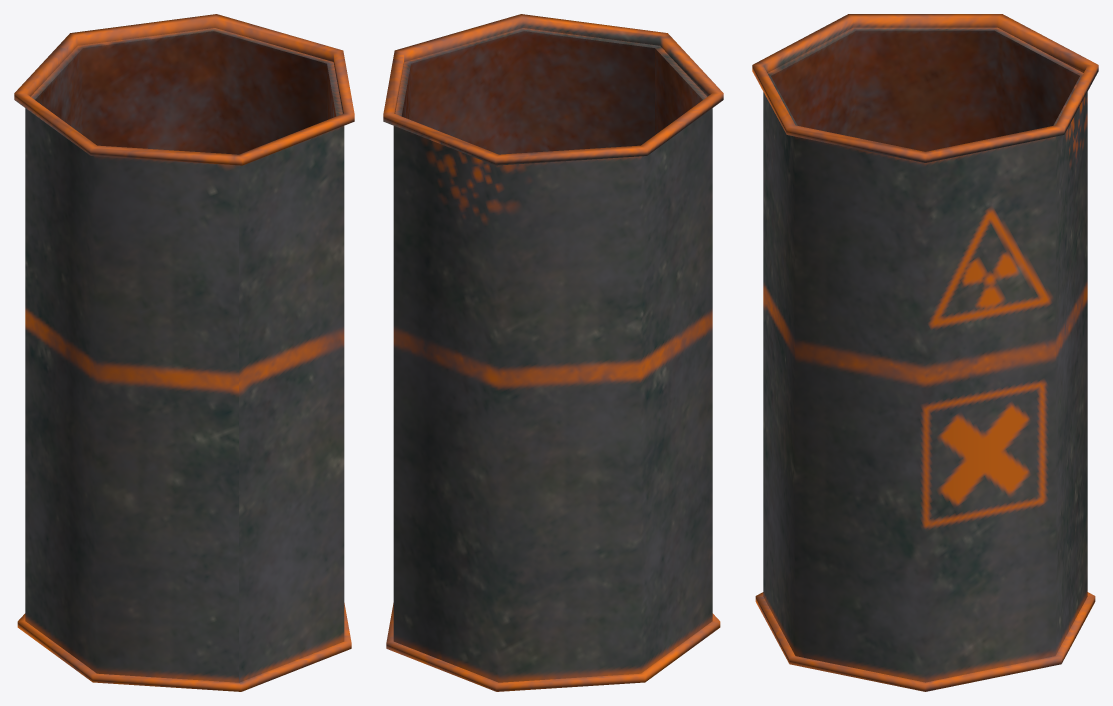
Rendered from barrel.glb.
3 views of the same model, side by side, from view 1: azimuth 30°, elevation 25°; view 2: azimuth 150°, elevation 25°; view 3: azimuth 270°, elevation 25° (orthographic).
Visible parts, largest first — view 1: SM_Barrel; view 2: SM_Barrel; view 3: SM_Barrel.
Part boxes in pixels (x1=…): SM_Barrel: x1=14, y1=14, x2=354, y2=691; SM_Barrel: x1=383, y1=14, x2=723, y2=691; SM_Barrel: x1=752, y1=14, x2=1098, y2=691.
Size of the model in its own units: 0.4596 by 0.8067 by 0.4714.
Materials: 1 (1 with a texture image).
